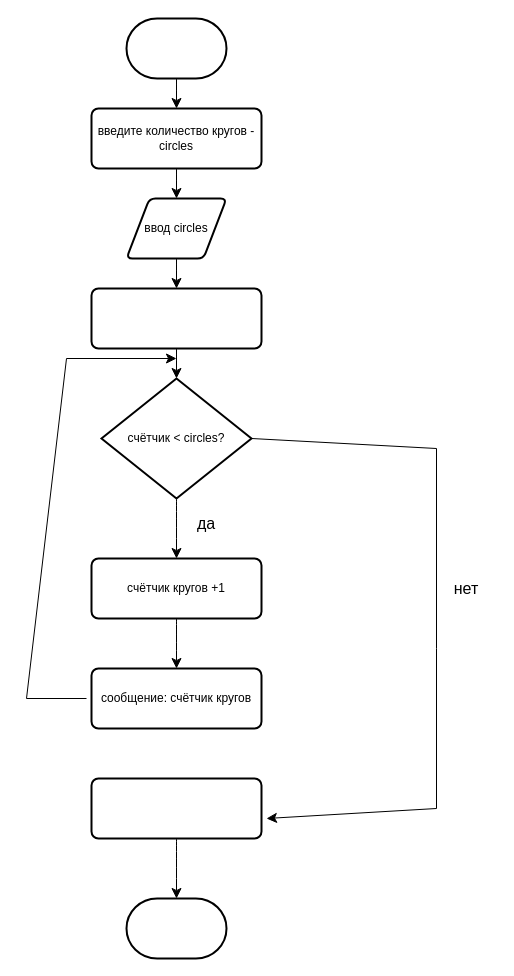
Image size: 514x976. Some labels were removed from this diagram. The shapes that lost their labels are listed below. From the top down, each one's centre as x and y in pixels, then its label:
At [176,318]: "счётчик кругов = 0".
At [176,808]: "сообщение: финиш".
